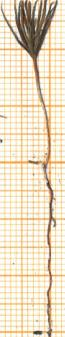flower: (0, 0, 64, 60)
root: (39, 162, 59, 337)
stem: (32, 60, 53, 163)
